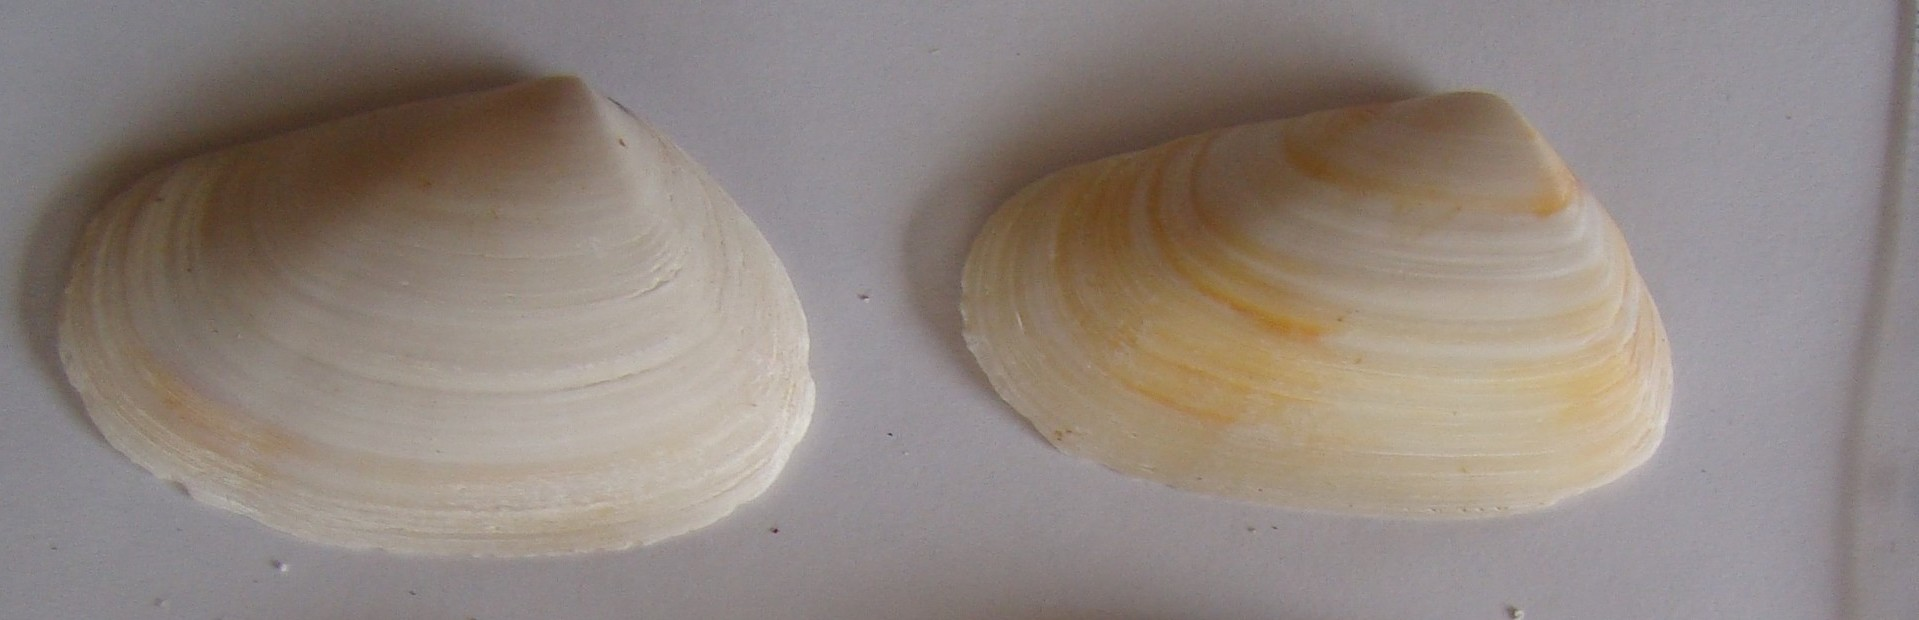tuatua: (54, 67, 827, 576), (952, 88, 1679, 522)
